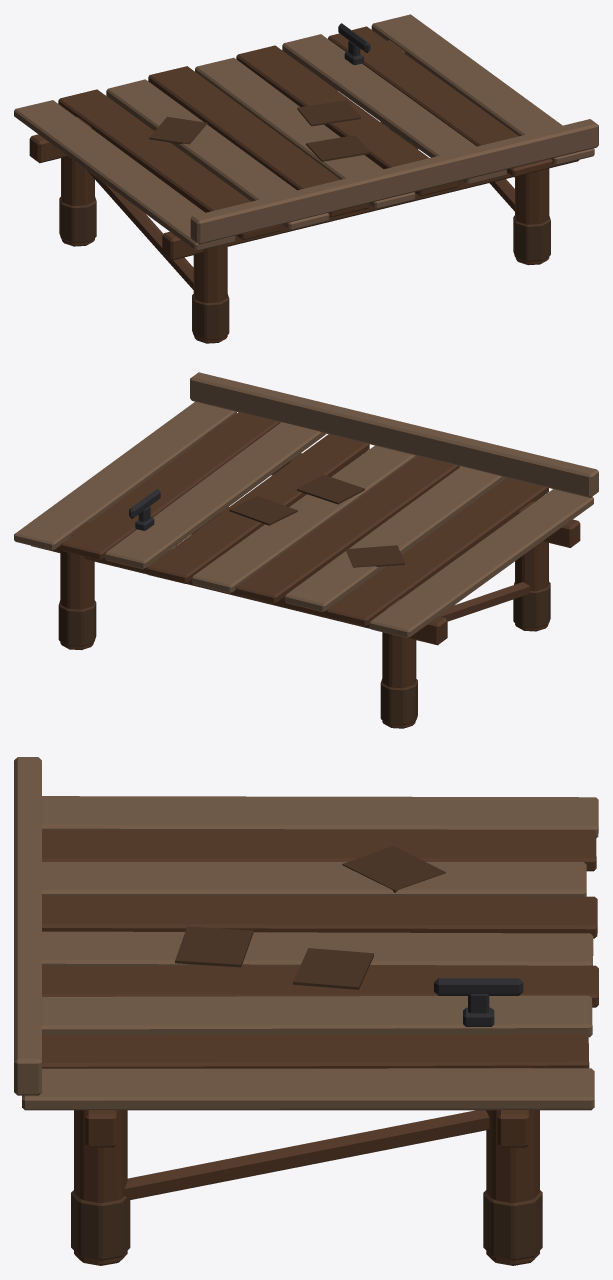
File: prop_dock_platform_a.glb
3 views of the same model, one above another, from view 1: azimuth 30°, elevation 25°; view 2: azimuth 150°, elevation 25°; view 3: azimuth 270°, elevation 25° (orthographic). The views are drawn at different scales.
Visible parts, largest first — view 1: dock_bull_rail, dock_bearer_0, dock_pile_wet_0, dock_cleat_base; view 2: dock_bull_rail, dock_bearer_0, dock_pile_wet_0, dock_cleat_base; view 3: dock_bull_rail, dock_bearer_0, dock_pile_wet_0, dock_cleat_base.
Part boxes in pixels (left/top/right/bottom): dock_bull_rail: left=14, top=14, right=598, bottom=251; dock_bearer_0: left=29, top=26, right=579, bottom=343; dock_pile_wet_0: left=59, top=100, right=550, bottom=340; dock_cleat_base: left=338, top=23, right=370, bottom=64; dock_bull_rail: left=14, top=372, right=598, bottom=638; dock_bearer_0: left=31, top=412, right=580, bottom=728; dock_pile_wet_0: left=58, top=475, right=550, bottom=725; dock_cleat_base: left=129, top=489, right=160, bottom=530; dock_bull_rail: left=14, top=757, right=598, bottom=1110; dock_bearer_0: left=42, top=829, right=598, bottom=1265; dock_pile_wet_0: left=71, top=846, right=542, bottom=1260; dock_cleat_base: left=434, top=978, right=523, bottom=1026.
Size of the model in its own units: 1.98 by 0.695 by 1.57.
